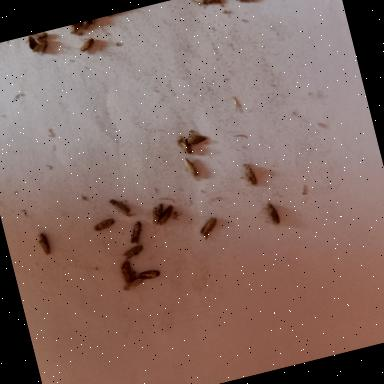pbw: (108, 193, 134, 219), (125, 218, 146, 244), (34, 230, 52, 258), (182, 128, 210, 146), (198, 215, 220, 237), (240, 160, 258, 186), (148, 201, 168, 224), (121, 242, 145, 260), (76, 34, 98, 53), (119, 260, 136, 284), (174, 134, 194, 154), (156, 204, 176, 224), (138, 266, 162, 282), (182, 155, 198, 179), (121, 276, 145, 292), (92, 216, 116, 232), (64, 22, 84, 40), (266, 200, 280, 224), (192, 0, 228, 8), (25, 30, 50, 40), (233, 0, 265, 6), (83, 18, 97, 30)
